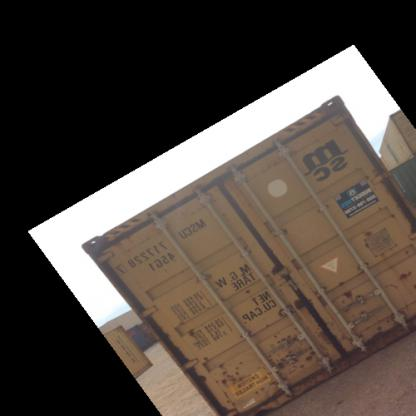Damage: (209, 354, 275, 415), (278, 329, 324, 374), (332, 274, 357, 303), (375, 310, 397, 335), (360, 220, 376, 245), (396, 264, 414, 286), (278, 220, 293, 240), (240, 282, 254, 300), (386, 208, 399, 221)
